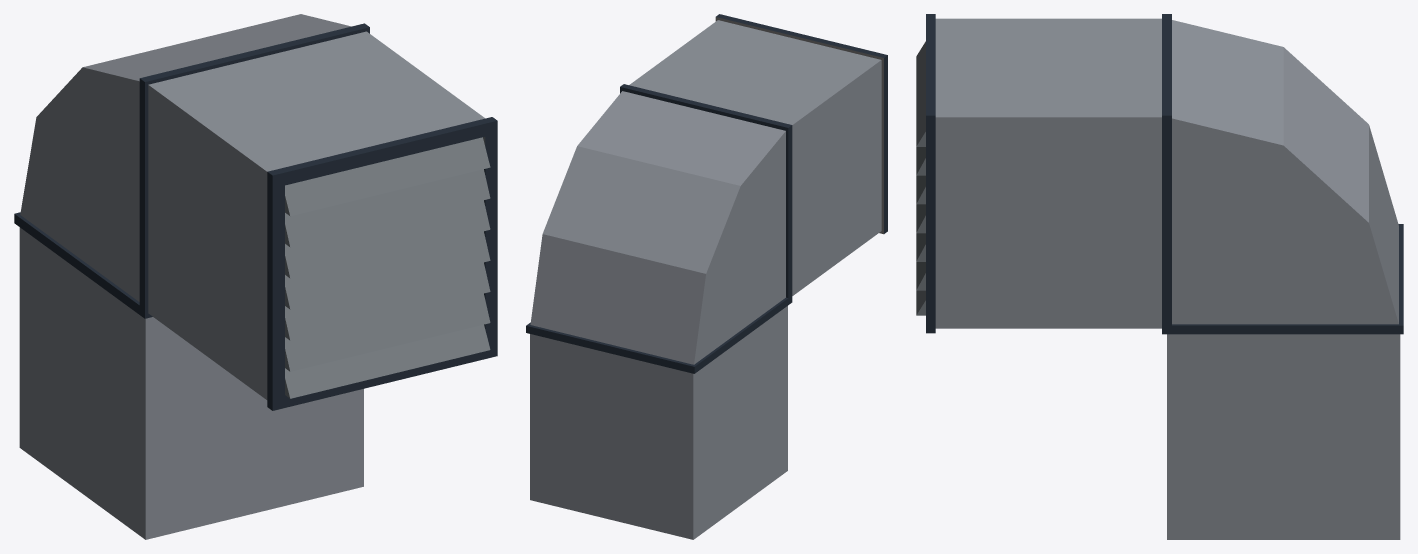
The model's file is SM_BuildingsDecor_27.fbx.
The picture shows the model from 3 angles, left to right: view 1: azimuth 30°, elevation 25°; view 2: azimuth 150°, elevation 25°; view 3: azimuth 270°, elevation 25°; orthographic projection. The views are drawn at different scales.
Parts seen in each view (by area): view 1: SM_BuildingsDecor_27; view 2: SM_BuildingsDecor_27; view 3: SM_BuildingsDecor_27.
Part boxes in pixels (bbox=[...]): SM_BuildingsDecor_27: bbox=[14, 14, 497, 539]; SM_BuildingsDecor_27: bbox=[526, 14, 887, 539]; SM_BuildingsDecor_27: bbox=[916, 14, 1403, 539].
Bounding box in the file's own units: 0.4944 × 0.9672 × 1.
